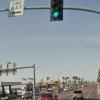Traffic light: (48, 0, 64, 26)
